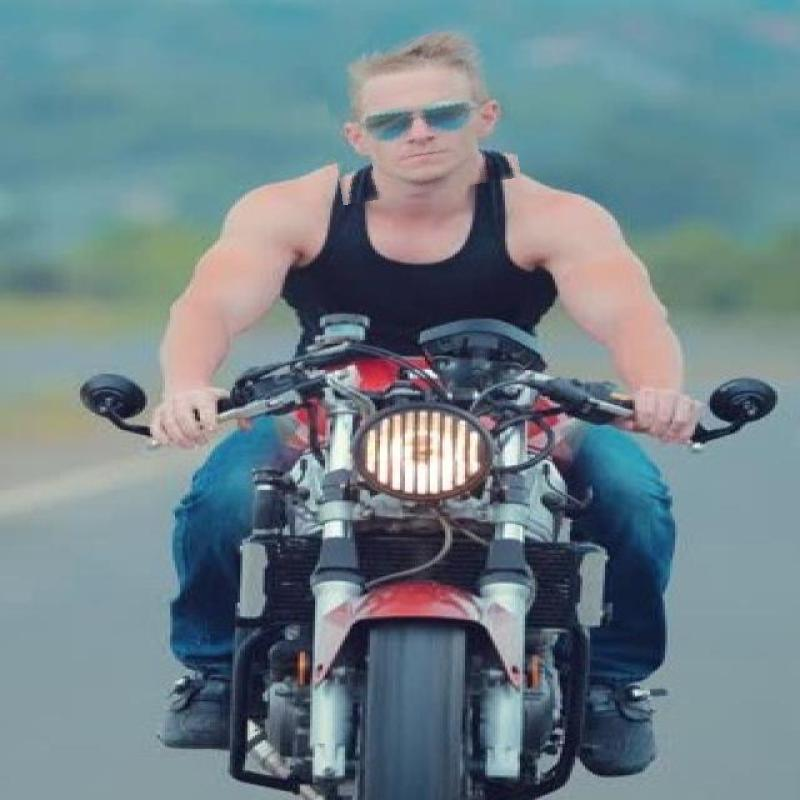nohelmet: (325, 30, 516, 199)
